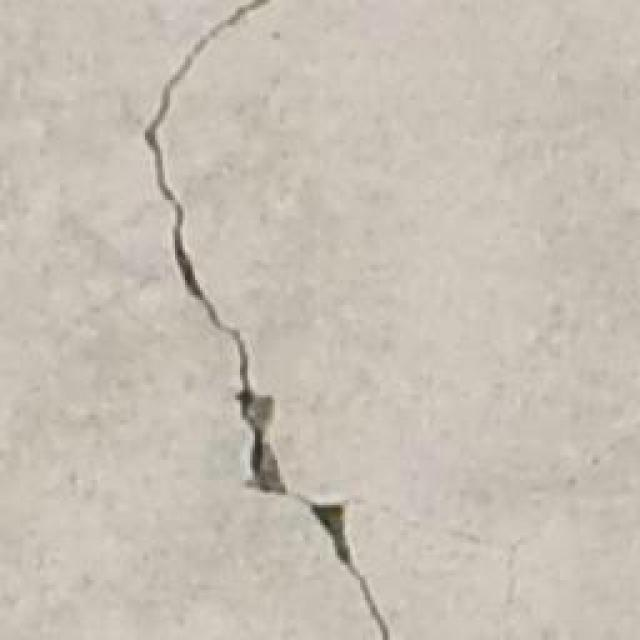concrete-crack: (145, 0, 392, 640)
